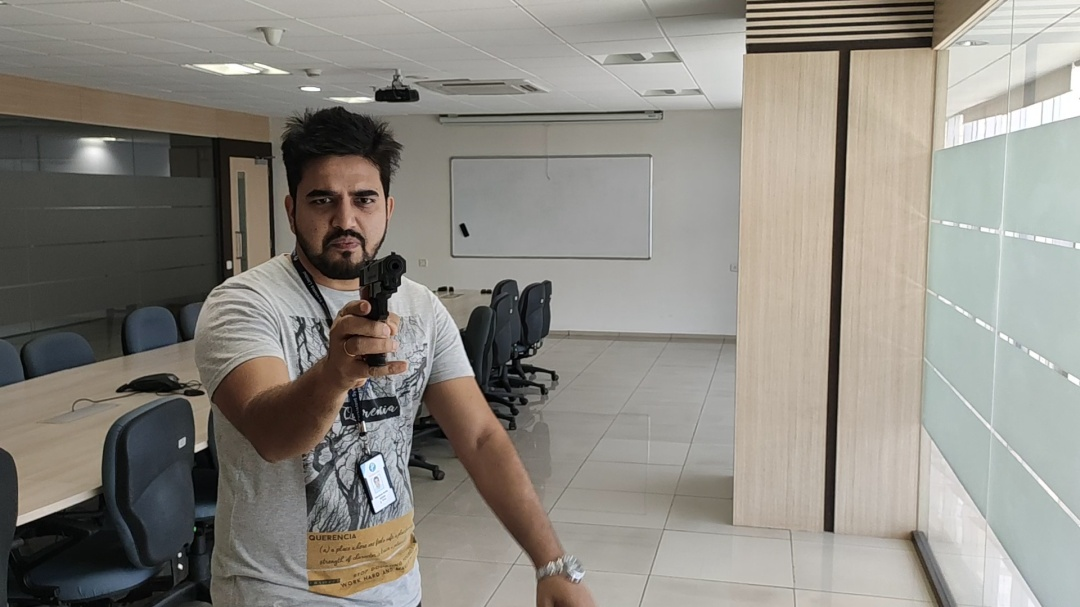gun: (166, 60, 877, 607)
